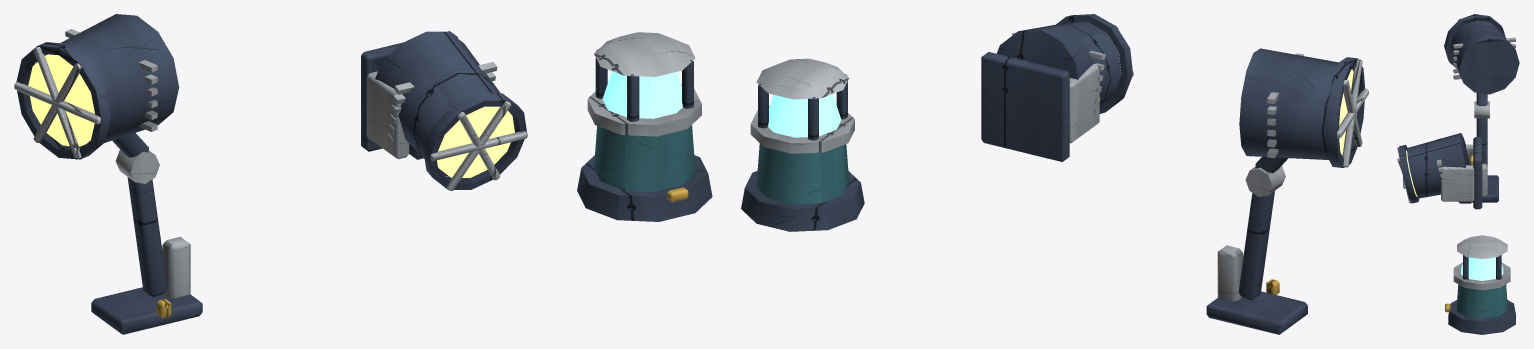
3 renders of one model, left to right at view 1: azimuth 30°, elevation 25°; view 2: azimuth 150°, elevation 25°; view 3: azimuth 270°, elevation 25°, orthographic. The views are drawn at different scales.
Visible parts, largest first — view 1: DL020_LightingKit_graphite_navy, DL020_LightingKit_titanium, DL020_LightingKit_teal_shell, DL020_LightingKit_emissive_amber, DL020_LightingKit_emissive_cyan, DL020_LightingKit_amber_accent; view 2: DL020_LightingKit_graphite_navy, DL020_LightingKit_titanium, DL020_LightingKit_teal_shell, DL020_LightingKit_emissive_cyan; view 3: DL020_LightingKit_graphite_navy, DL020_LightingKit_titanium, DL020_LightingKit_teal_shell, DL020_LightingKit_emissive_cyan.
Part boxes in pixels (x1,y1,x2,y2): DL020_LightingKit_graphite_navy: (16, 14, 712, 334); DL020_LightingKit_titanium: (14, 29, 701, 298); DL020_LightingKit_teal_shell: (594, 125, 695, 191); DL020_LightingKit_emissive_amber: (28, 54, 514, 177); DL020_LightingKit_emissive_cyan: (602, 71, 682, 118); DL020_LightingKit_amber_accent: (156, 187, 688, 317); DL020_LightingKit_graphite_navy: (741, 14, 1365, 334); DL020_LightingKit_titanium: (750, 25, 1368, 301); DL020_LightingKit_teal_shell: (756, 143, 849, 204); DL020_LightingKit_emissive_cyan: (768, 94, 841, 137); DL020_LightingKit_graphite_navy: (1398, 14, 1519, 334); DL020_LightingKit_titanium: (1397, 15, 1515, 290); DL020_LightingKit_teal_shell: (1457, 284, 1507, 318); DL020_LightingKit_emissive_cyan: (1461, 257, 1503, 280).
Bounding box in the file's own units: 3.63 × 1.54 × 1.1.
6 materials, 4 textured.
